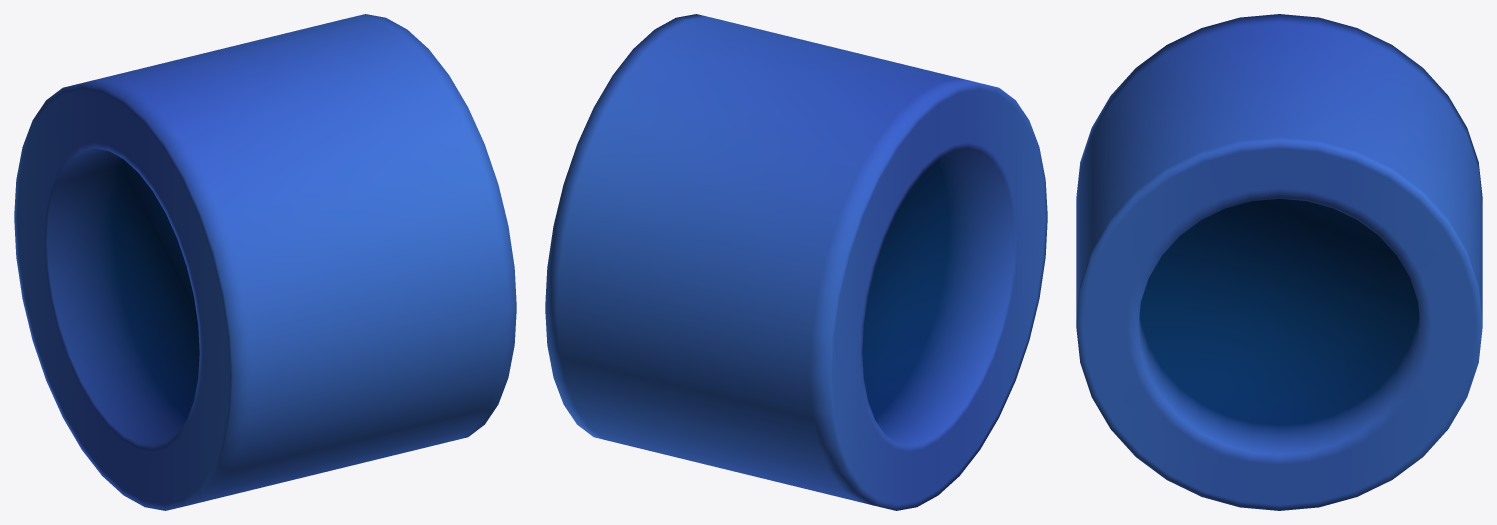
File: синий кругляш.fbx
3 renders of one model, left to right at view 1: azimuth 30°, elevation 25°; view 2: azimuth 150°, elevation 25°; view 3: azimuth 270°, elevation 25°, orthographic. The views are drawn at different scales.
Parts seen in each view (by area): view 1: Cylinder.004; view 2: Cylinder.004; view 3: Cylinder.004.
Part boxes in pixels (left/top/right/bottom): Cylinder.004: left=14, top=14, right=516, bottom=510; Cylinder.004: left=545, top=14, right=1047, bottom=510; Cylinder.004: left=1076, top=14, right=1482, bottom=510.
Bounding box in the file's own units: 108 × 144 × 144.
